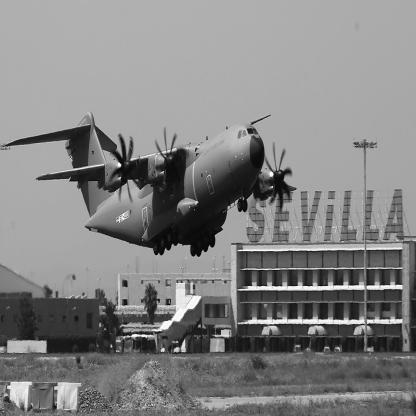A400M: (3, 111, 298, 258)
